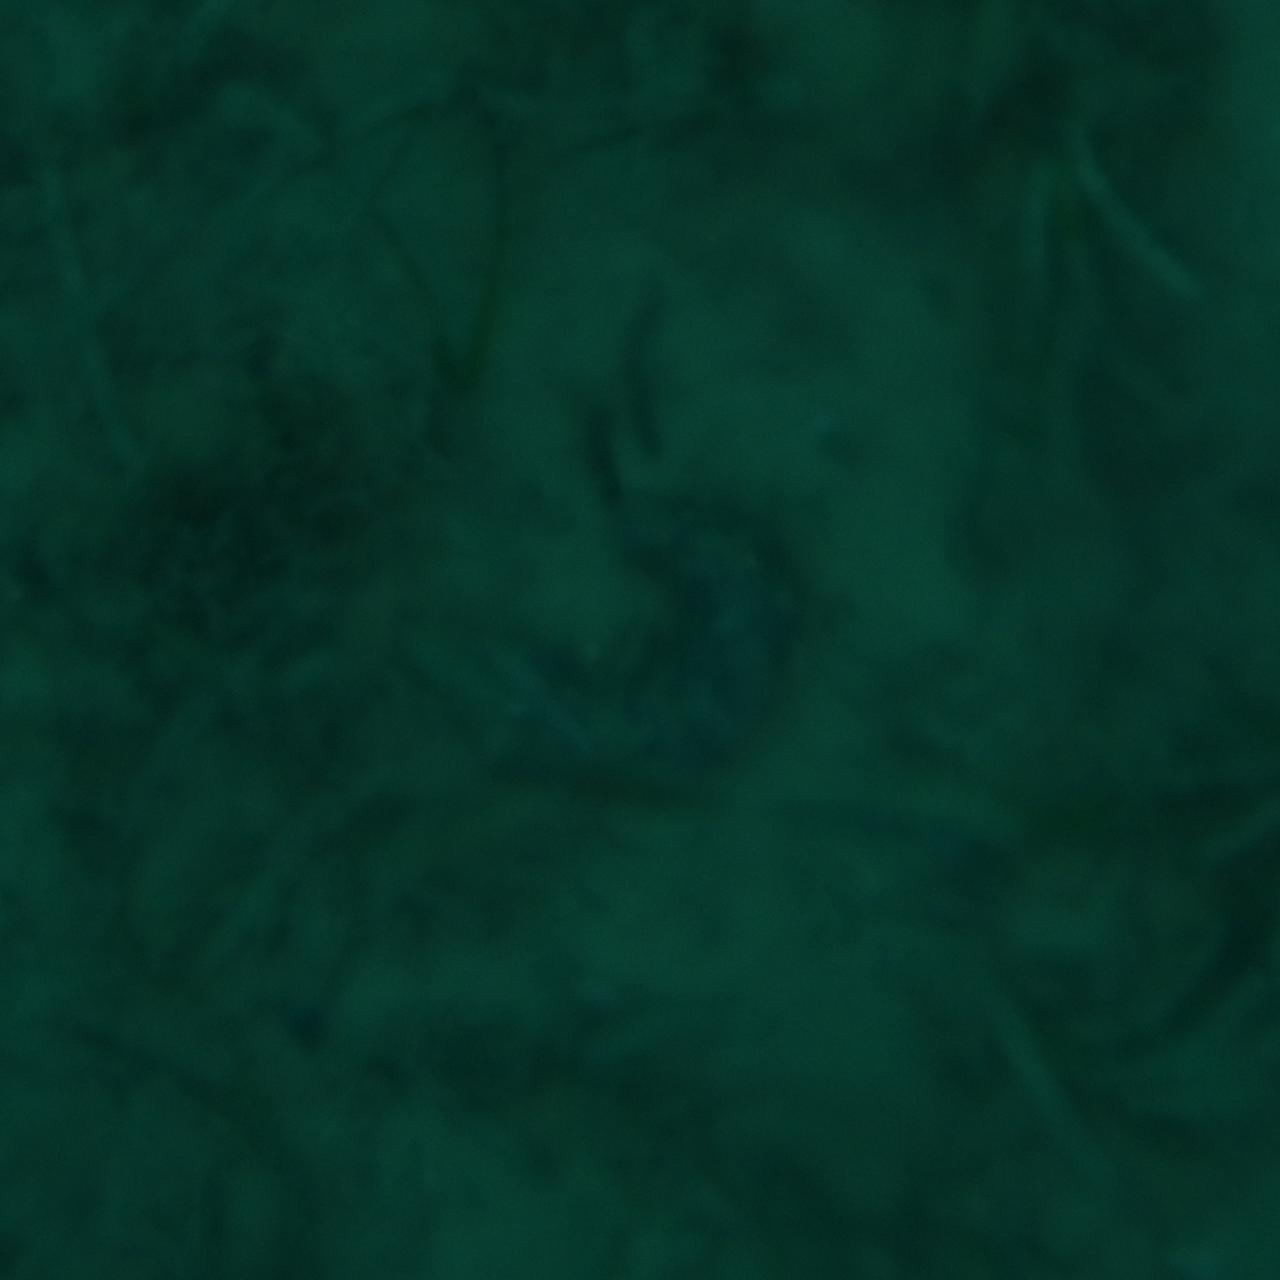Holothuria tubulosa: (449, 468, 831, 812)
